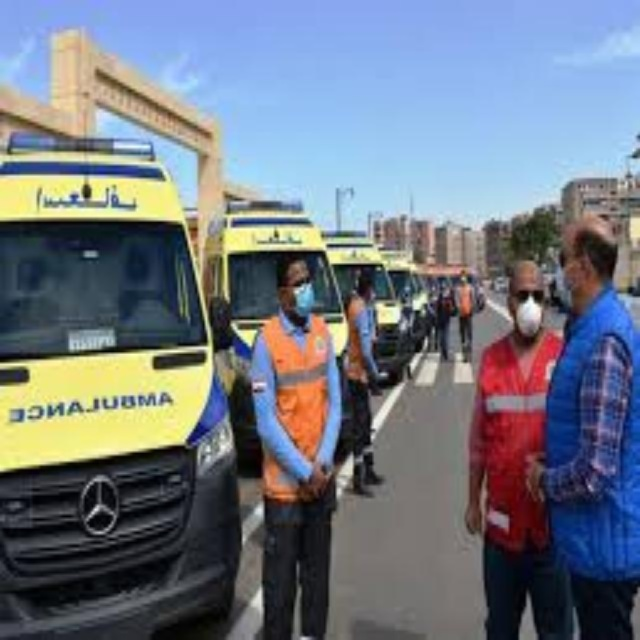Ambulance: (0, 115, 228, 640), (200, 205, 351, 465), (330, 205, 391, 394)
person: (522, 211, 638, 637), (462, 257, 573, 637), (247, 257, 341, 637)
